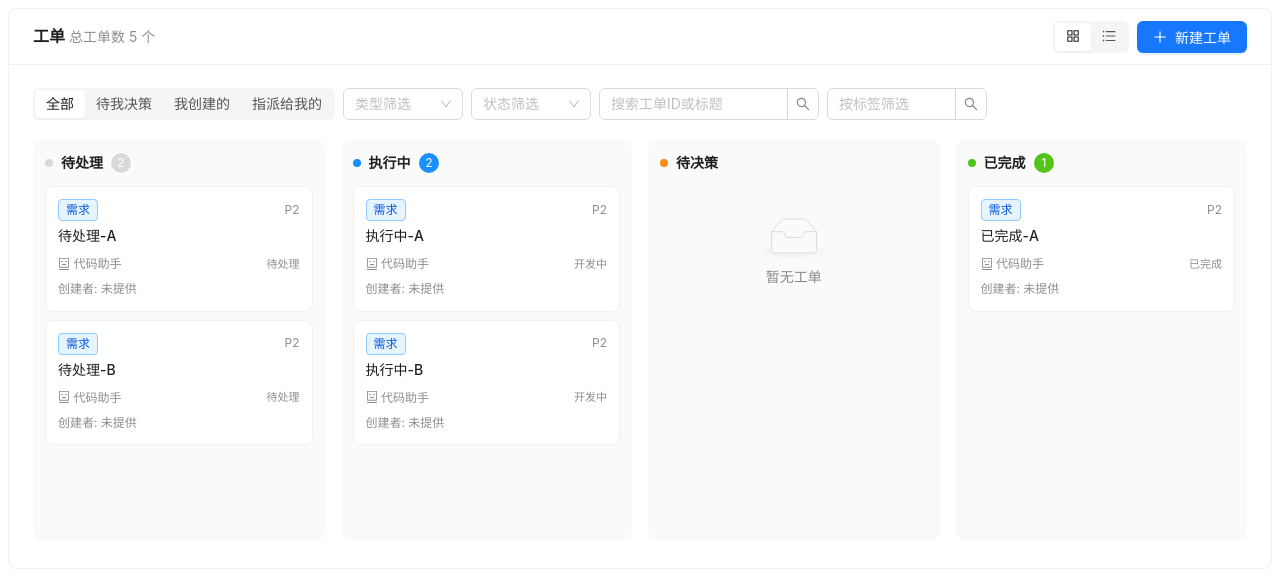
Test: WorkitemListPage 看板按状态列查询 › 选择状态筛选后只展示该状态列
This screenshot has width=1280, height=586.
expect the element with test id "kanban-column-NEW" is shown: met, box [33,140,324,540]
Click the element showing "状态筛选" at (531,104), box [471,88,591,120]
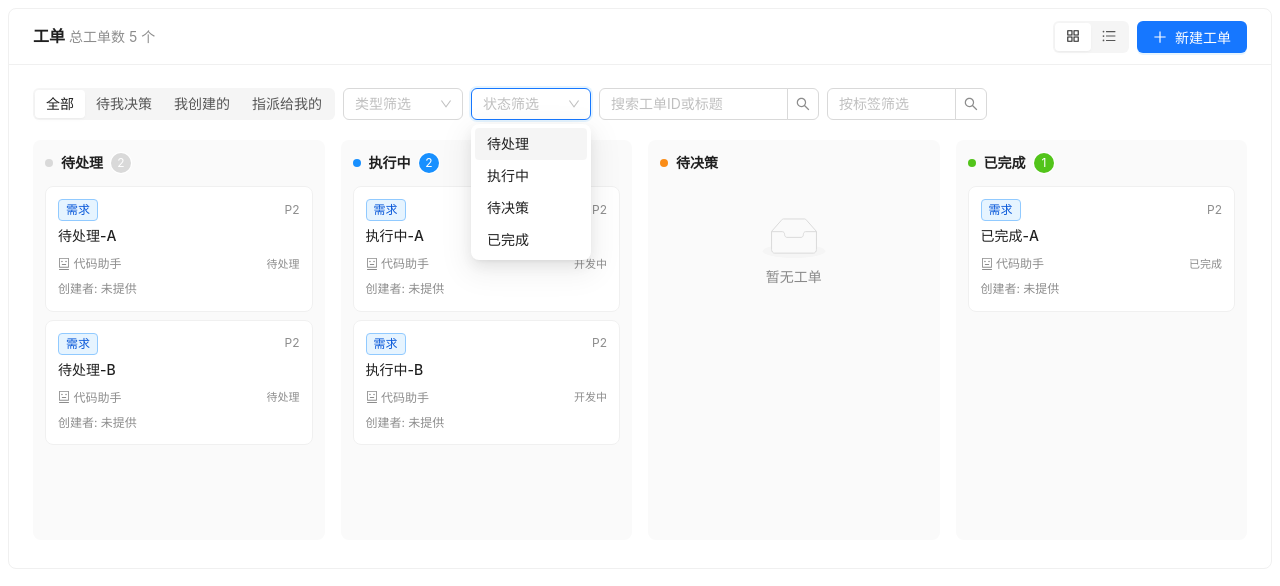
Click the 2nd element titled "执行中" at (508,176), box [487,167,529,184]
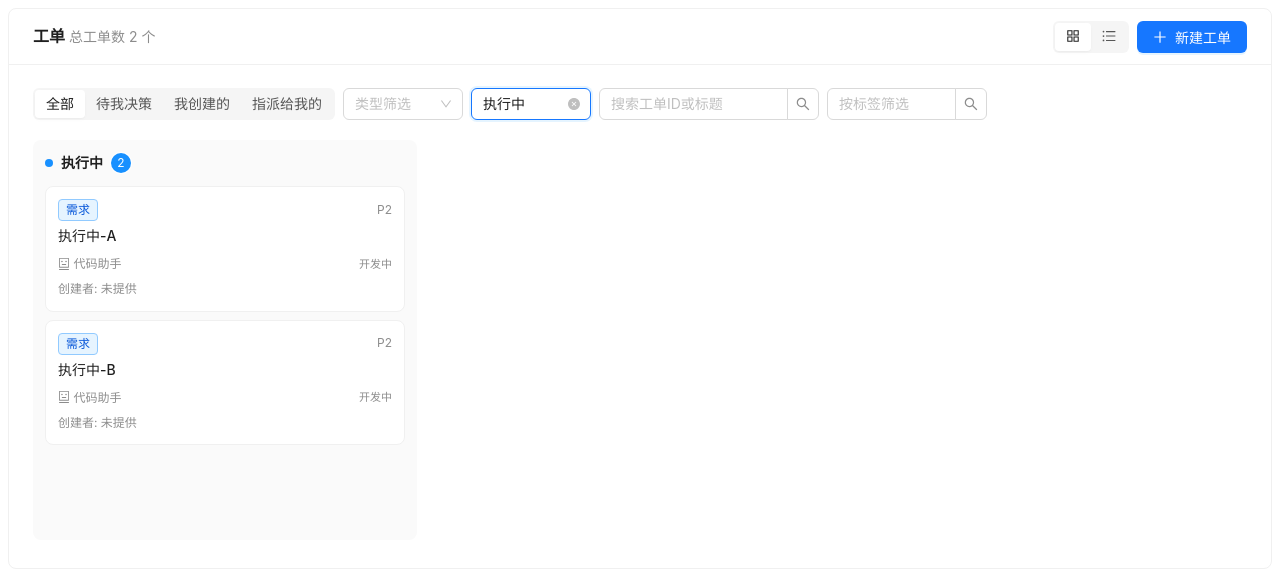
expect the element with test id "kanban-column-IN_PROGRESS" is shown: met, box [33,140,417,540]
expect the element with test id "kanban-column-NEW" is gone: met
expect the element with test id "kanban-column-DONE" is gone: met
